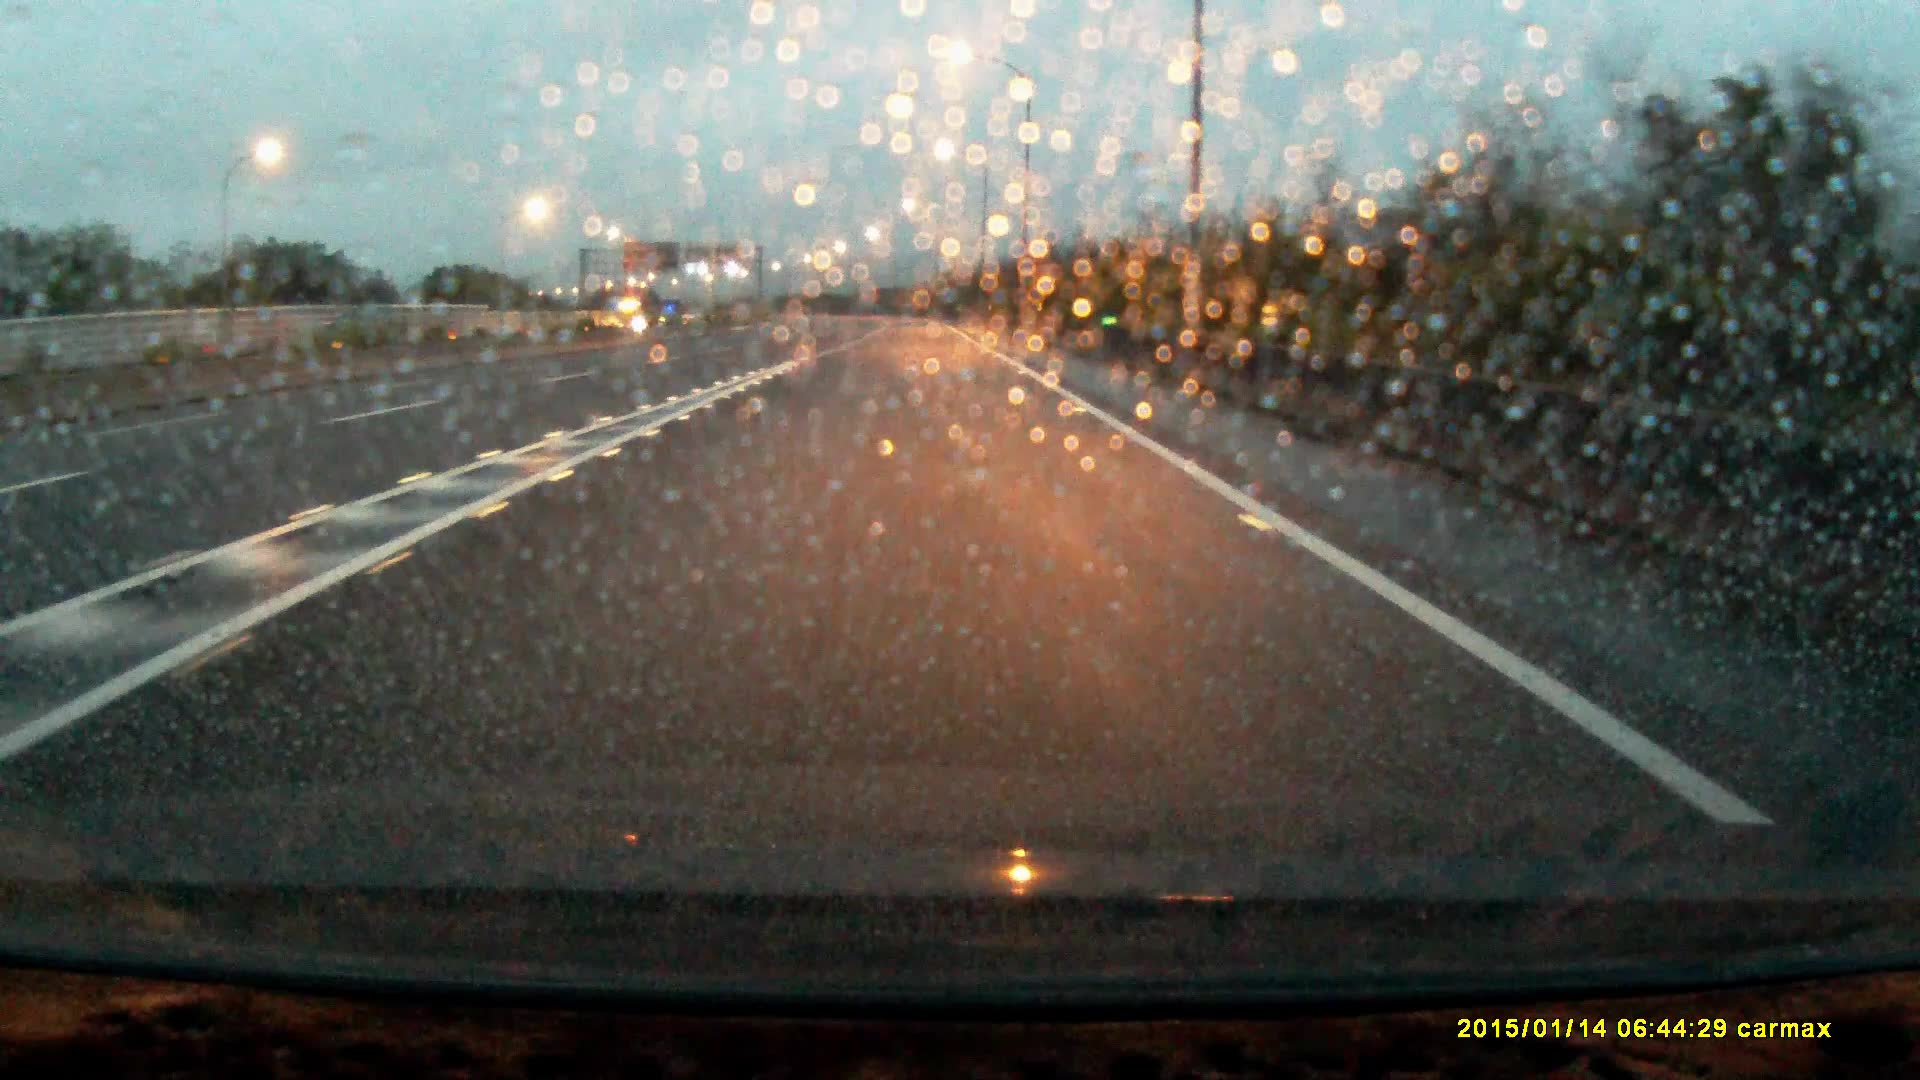vehicle: (615, 295, 649, 332)
